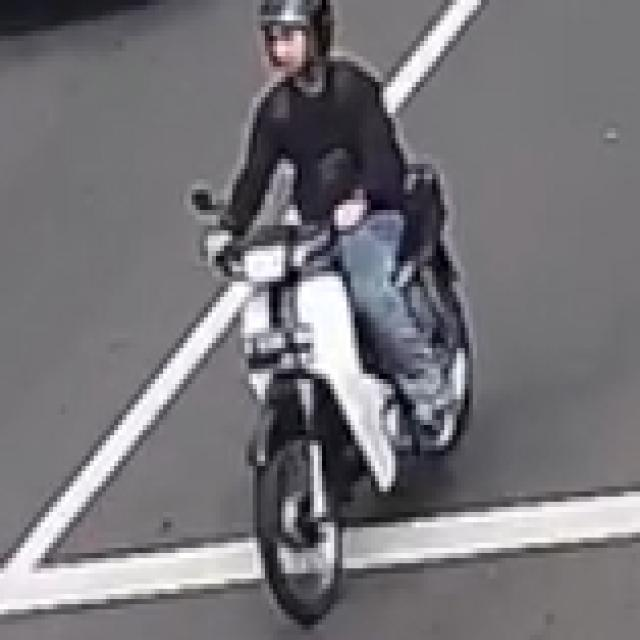helm: (244, 0, 350, 77)
motor: (170, 0, 480, 632)
spion: (307, 133, 367, 226), (179, 177, 248, 236)
